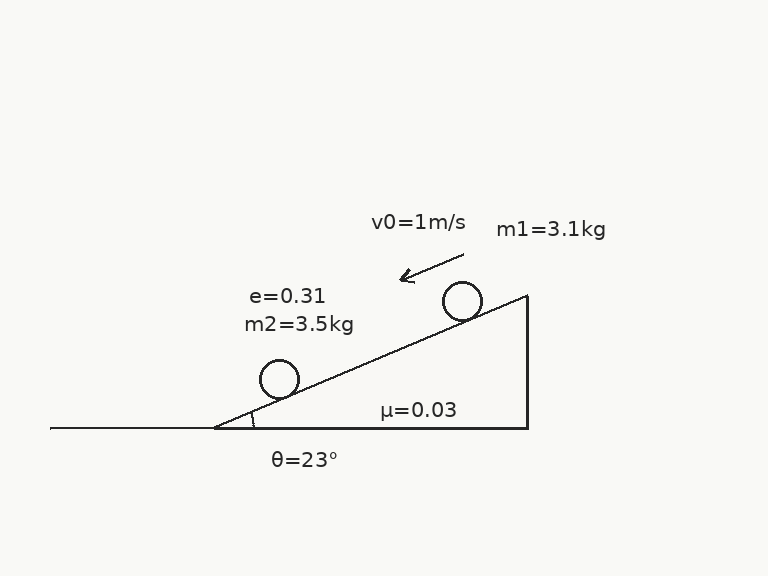ball: (440, 279, 484, 323), (257, 357, 301, 401)
ramp: (212, 293, 529, 430)
